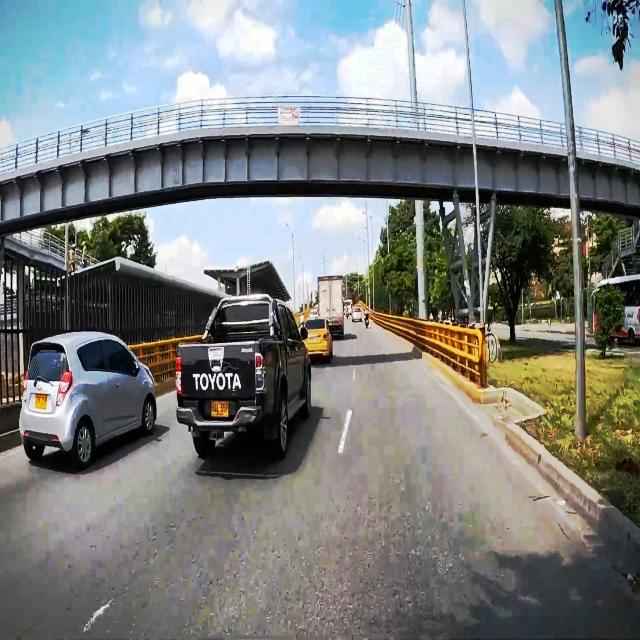license_plate: (210, 399, 229, 418)
